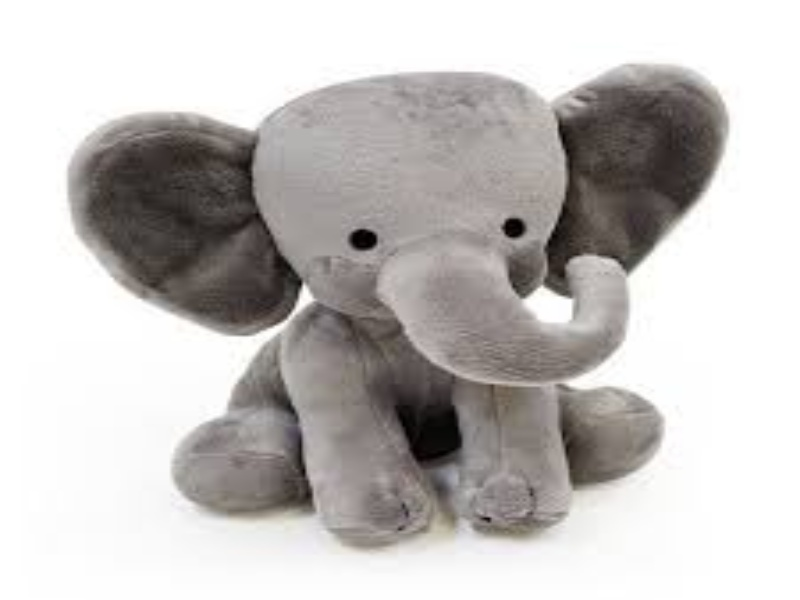elephant: (58, 45, 761, 551)
